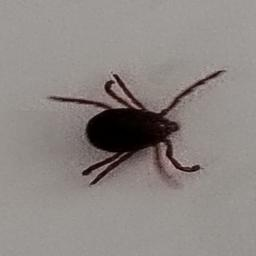Rhipicephalus sanguineus: (46, 62, 227, 188)
